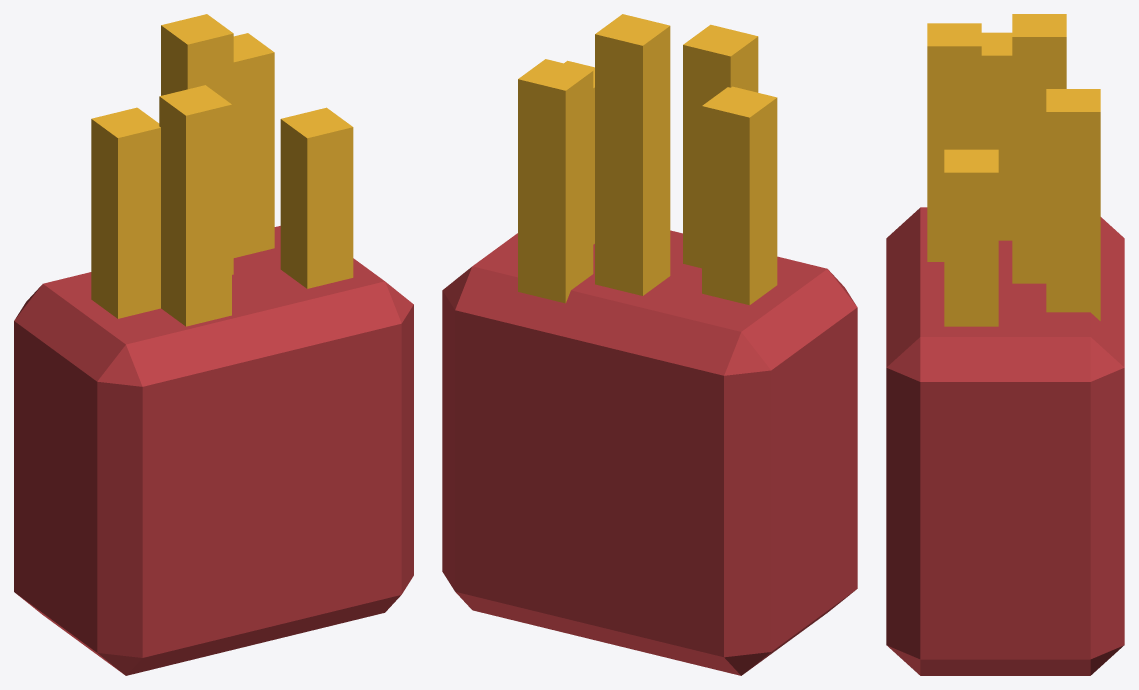
The model's file is food_fries.glb.
The picture shows the model from 3 angles, left to right: view 1: azimuth 30°, elevation 25°; view 2: azimuth 150°, elevation 25°; view 3: azimuth 270°, elevation 25°; orthographic projection. The views are drawn at different scales.
Parts seen in each view (by area): view 1: food_fries, food_fries_f3, food_fries_f0, food_fries_f2, food_fries_f4, food_fries_f1; view 2: food_fries, food_fries_f1, food_fries_f4, food_fries_f0, food_fries_f3; view 3: food_fries, food_fries_f4, food_fries_f1, food_fries_f2, food_fries_f3, food_fries_f0.
Boxes of the visible parts, x1,y1,x2,y2 form: food_fries: [14, 226, 413, 675]; food_fries_f3: [159, 85, 231, 326]; food_fries_f0: [91, 107, 160, 318]; food_fries_f2: [280, 107, 353, 288]; food_fries_f4: [233, 33, 274, 257]; food_fries_f1: [161, 14, 233, 274]; food_fries: [442, 230, 857, 675]; food_fries_f1: [595, 14, 670, 295]; food_fries_f4: [518, 59, 593, 303]; food_fries_f0: [702, 86, 777, 305]; food_fries_f3: [683, 24, 758, 268]; food_fries: [886, 207, 1124, 675]; food_fries_f4: [1046, 89, 1100, 320]; food_fries_f1: [1012, 14, 1066, 283]; food_fries_f2: [944, 149, 998, 326]; food_fries_f3: [927, 23, 981, 261]; food_fries_f0: [981, 32, 1012, 240].
Bounding box in the file's own units: 0.11 × 0.19 × 0.07.
